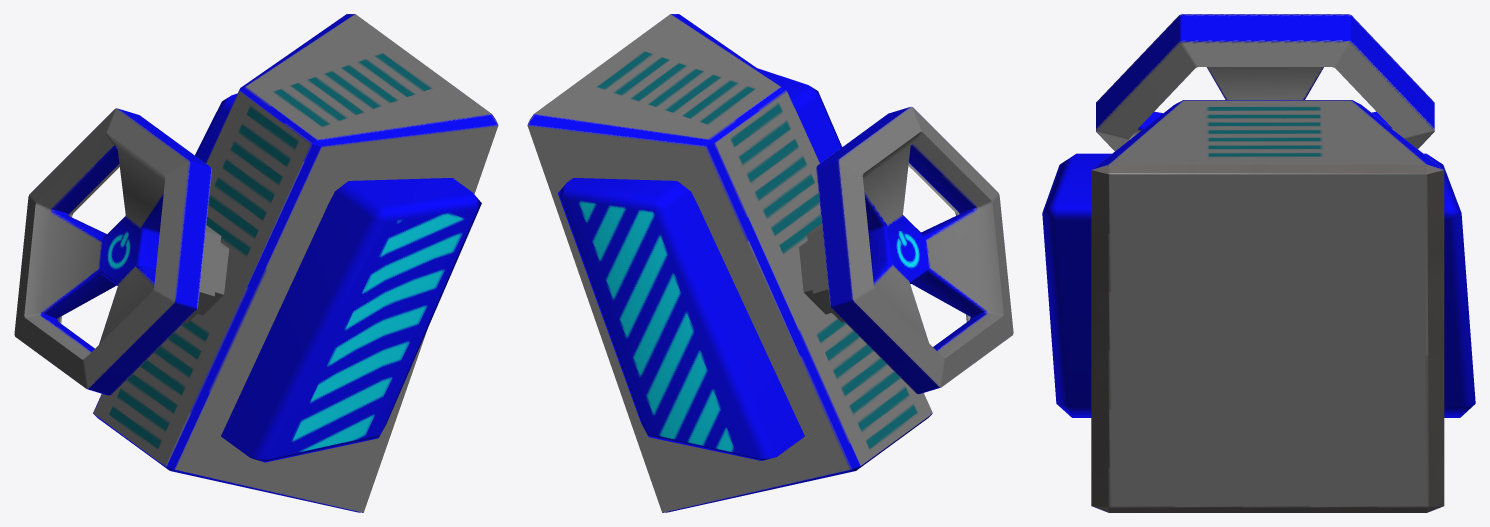
The model's file is SM_Props_17.fbx.
The picture shows the model from 3 angles, left to right: view 1: azimuth 30°, elevation 25°; view 2: azimuth 150°, elevation 25°; view 3: azimuth 270°, elevation 25°; orthographic projection. The views are drawn at different scales.
Parts seen in each view (by area): view 1: SM_Props_17; view 2: SM_Props_17; view 3: SM_Props_17.
Part boxes in pixels (x1,y1,x2,y2): SM_Props_17: (14, 14, 498, 512); SM_Props_17: (527, 14, 1013, 512); SM_Props_17: (1042, 14, 1475, 512).
Size of the model in its own units: 63.77 by 54.49 by 58.93.
Materials: 1 (1 with a texture image).
